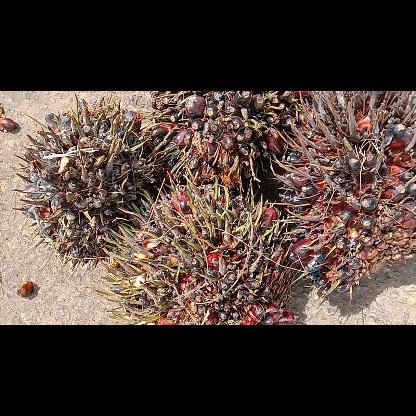TBS abnormal: (106, 178, 300, 322), (284, 92, 414, 298), (18, 92, 164, 263), (152, 92, 310, 192)
